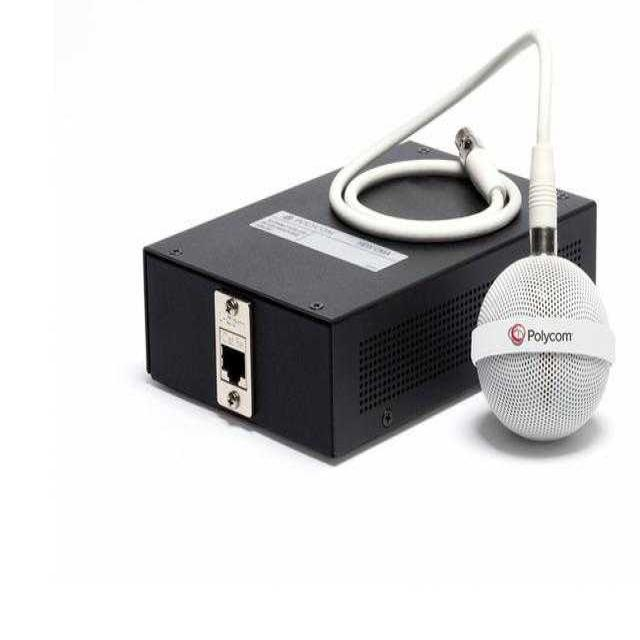microphone: (472, 258, 613, 438)
